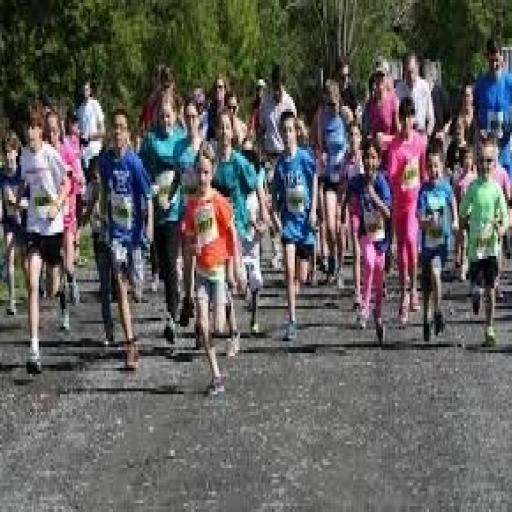running: (180, 138, 245, 400), (94, 106, 157, 374), (268, 106, 322, 347)
